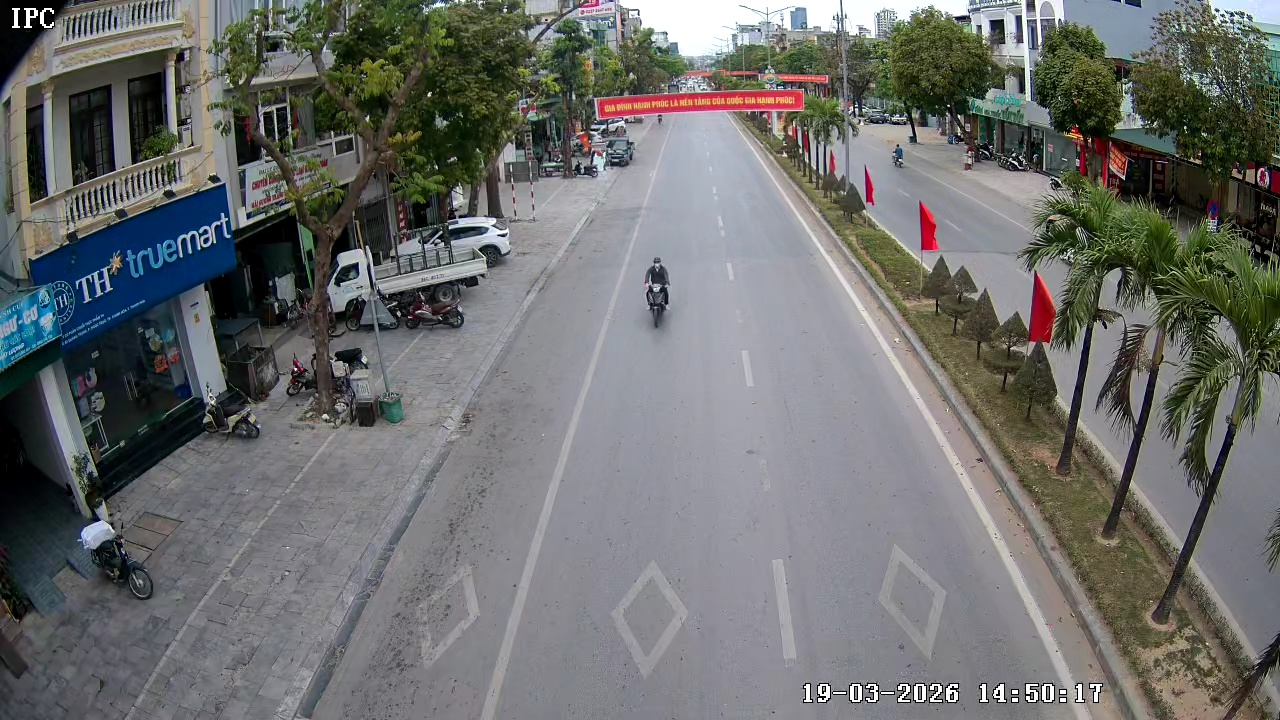motorbike: (77, 516, 157, 601), (641, 254, 673, 329)
